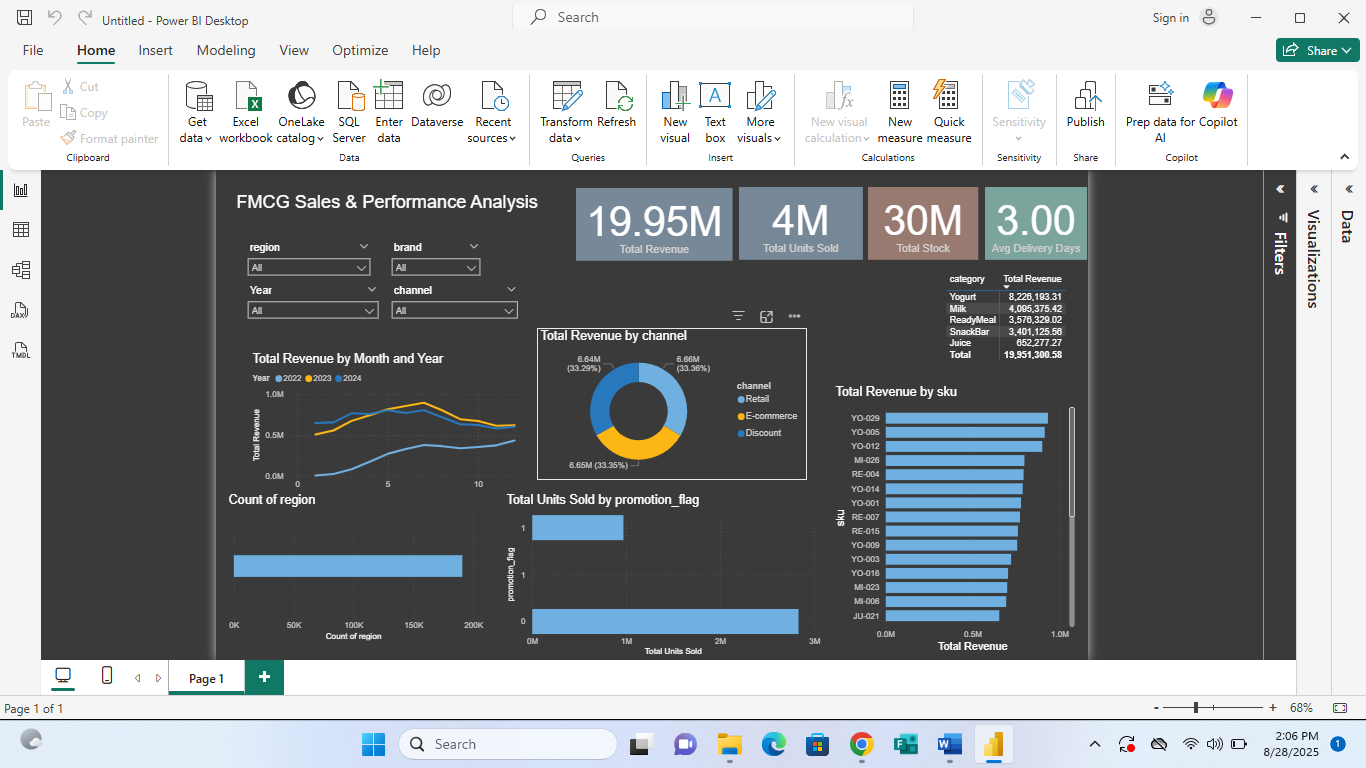

What the dashboard file says about the page in this screenshot:
{"tool":"powerbi","page":{"name":"Page 1","canvas":[1280,720],"ordinal":0},"visuals":[{"type":"card","fields":{"Values":["FactFMCG.Total Revenue"]},"box":[528.3,26.7,230,106.7],"z":0},{"type":"card","fields":{"Values":["FactFMCG.Total Units Sold"]},"box":[768.3,25,181.7,106.7],"z":1000},{"type":"card","fields":{"Values":["FactFMCG.Total Stock"]},"box":[958.3,25,161.7,106.7],"z":2000},{"type":"lineChart","fields":{"Category":["DimDate.Month"],"Y":["FactFMCG.Total Revenue"],"Series":["DimDate.Year"]},"box":[48.3,266.7,405,223.3],"z":3000},{"type":"barChart","fields":{"Y":["CountNonNull(FactFMCG.region)"]},"box":[13.2,473.1,385,223.3],"z":4000},{"type":"donutChart","fields":{"Category":["FactFMCG.channel"],"Y":["FactFMCG.Total Revenue"]},"box":[471.7,231.7,396.7,223.3],"z":5000},{"type":"pivotTable","fields":{"Rows":["FactFMCG.category"],"Values":["FactFMCG.Total Revenue"]},"box":[1068.3,146.7,211.7,168.3],"z":6000},{"type":"clusteredBarChart","fields":{"Y":["FactFMCG.Total Units Sold"],"Category":["FactFMCG.promotion_flag"]},"box":[421.7,473.3,471.7,246.7],"z":7000},{"type":"slicer","fields":{"Values":["DimDate.Year"]},"box":[36.7,163.3,211.7,86.7],"z":8000},{"type":"barChart","fields":{"Category":["FactFMCG.sku"],"Y":["FactFMCG.Total Revenue"]},"box":[905,315,361.7,398.3],"z":9000},{"type":"slicer","fields":{"Values":["FactFMCG.region"]},"box":[36.7,99.9,199.8,63.2],"z":10000},{"type":"slicer","fields":{"Values":["FactFMCG.channel"]},"box":[248.3,163.3,205,63.3],"z":11000},{"type":"slicer","fields":{"Values":["FactFMCG.brand"]},"box":[248.3,100,150,70],"z":12000},{"type":"card","fields":{"Values":["FactFMCG.Avg Delivery Days"]},"box":[1130,25,150,106.7],"z":13000},{"type":"textbox","box":[25,26.7,485,51.7],"z":14000}]}

Visuals, with their boxes on the page's 1280x720 design canvas (x1, y1, x2, y2). These are canvas units, not pixel positions in the 1366x768 screenshot, which may show the page scaled, cropped or inside an application window:
card - FactFMCG.Total Revenue: l=528, t=27, r=758, b=133
card - FactFMCG.Total Units Sold: l=768, t=25, r=950, b=132
card - FactFMCG.Total Stock: l=958, t=25, r=1120, b=132
lineChart - DimDate.Month x FactFMCG.Total Revenue: l=48, t=267, r=453, b=490
barChart - CountNonNull(FactFMCG.region): l=13, t=473, r=398, b=696
donutChart - FactFMCG.channel x FactFMCG.Total Revenue: l=472, t=232, r=868, b=455
pivotTable - FactFMCG.category x FactFMCG.Total Revenue: l=1068, t=147, r=1280, b=315
clusteredBarChart - FactFMCG.Total Units Sold x FactFMCG.promotion_flag: l=422, t=473, r=893, b=720
slicer - DimDate.Year: l=37, t=163, r=248, b=250
barChart - FactFMCG.sku x FactFMCG.Total Revenue: l=905, t=315, r=1267, b=713
slicer - FactFMCG.region: l=37, t=100, r=236, b=163
slicer - FactFMCG.channel: l=248, t=163, r=453, b=227
slicer - FactFMCG.brand: l=248, t=100, r=398, b=170
card - FactFMCG.Avg Delivery Days: l=1130, t=25, r=1280, b=132
textbox: l=25, t=27, r=510, b=78
